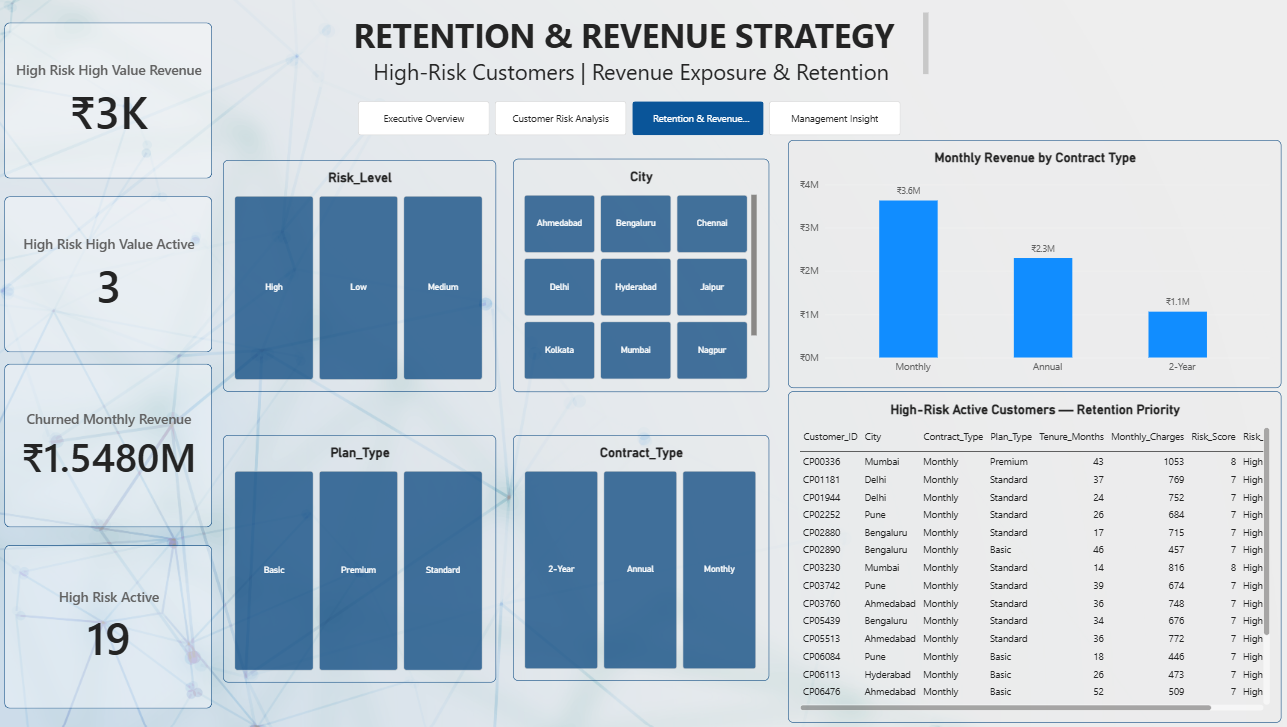

What the dashboard file says about the page in this screenshot:
{"tool":"powerbi","page":{"name":"Retention & Revenue Strategy","canvas":[1920,1080],"ordinal":2},"visuals":[{"type":"cardVisual","fields":{"Data":["Cleaned_Customer_Data 1.Churned Monthly Revenue"]},"box":[9,541.1,305.8,240.7],"z":0},{"type":"cardVisual","fields":{"Data":["Cleaned_Customer_Data 1.High Risk Active"]},"box":[9,807.1,305.8,240.7],"z":1000},{"type":"clusteredColumnChart","title":"Monthly Revenue by Contract Type","fields":{"Category":["Cleaned_Customer_Data 1.Contract_Type"],"Y":["Cleaned_Customer_Data 1.Monthly Revenue"]},"box":[1160,212,724,364],"z":2000},{"type":"tableEx","title":"High-Risk Active Customers — Retention Priority","fields":{"Values":["Cleaned_Customer_Data 1.Customer_ID","Cleaned_Customer_Data 1.City","Cleaned_Customer_Data 1.Contract_Type","Cleaned_Customer_Data 1.Plan_Type","Cleaned_Customer_Data 1.Tenure_Months","Cleaned_Customer_Data 1.Monthly_Charges","Cleaned_Customer_Data 1.Risk_Score","Cleaned_Customer_Data 1.Risk_Level","Cleaned_Customer_Data 1.Churn"]},"box":[1160,582,724,486],"z":3000},{"type":"advancedSlicerVisual","fields":{"Values":["Cleaned_Customer_Data 1.City"]},"box":[755.5,240,375.7,342.3],"z":4000},{"type":"advancedSlicerVisual","fields":{"Values":["Cleaned_Customer_Data 1.Contract_Type"]},"box":[755.5,644.9,375.7,361],"z":5000},{"type":"advancedSlicerVisual","fields":{"Values":["Cleaned_Customer_Data 1.Plan_Type"]},"box":[329.7,644.9,400.7,363.1],"z":6000},{"type":"advancedSlicerVisual","fields":{"Values":["Cleaned_Customer_Data 1.Risk_Level"]},"box":[329.7,242.1,400.7,340.2],"z":7000},{"type":"cardVisual","fields":{"Data":["Cleaned_Customer_Data 1.High Risk High Value Active"]},"box":[9,295,305.8,229.8],"z":8000},{"type":"cardVisual","fields":{"Data":["Cleaned_Customer_Data 1.High Risk High Value Revenue"]},"box":[9,39.8,305.8,229.8],"z":9000},{"type":"textbox","box":[494,25.3,872.3,115.8],"z":10000},{"type":"pageNavigator","box":[528.4,155.6,799.9,50.7],"z":11000}]}

Visuals, with their boxes in screenshot pixels (x1, y1, x2, y2), scaled from the page's 1920x1080 canvas onto the 1287x727 screenshot:
cardVisual - Cleaned_Customer_Data 1.Churned Monthly Revenue: 6:364:211:526
cardVisual - Cleaned_Customer_Data 1.High Risk Active: 6:543:211:705
"Monthly Revenue by Contract Type" clusteredColumnChart: 778:143:1263:388
"High-Risk Active Customers — Retention Priority" tableEx: 778:392:1263:719
advancedSlicerVisual - Cleaned_Customer_Data 1.City: 506:162:758:392
advancedSlicerVisual - Cleaned_Customer_Data 1.Contract_Type: 506:434:758:677
advancedSlicerVisual - Cleaned_Customer_Data 1.Plan_Type: 221:434:490:679
advancedSlicerVisual - Cleaned_Customer_Data 1.Risk_Level: 221:163:490:392
cardVisual - Cleaned_Customer_Data 1.High Risk High Value Active: 6:199:211:353
cardVisual - Cleaned_Customer_Data 1.High Risk High Value Revenue: 6:27:211:181
textbox: 331:17:916:95
pageNavigator: 354:105:890:139
